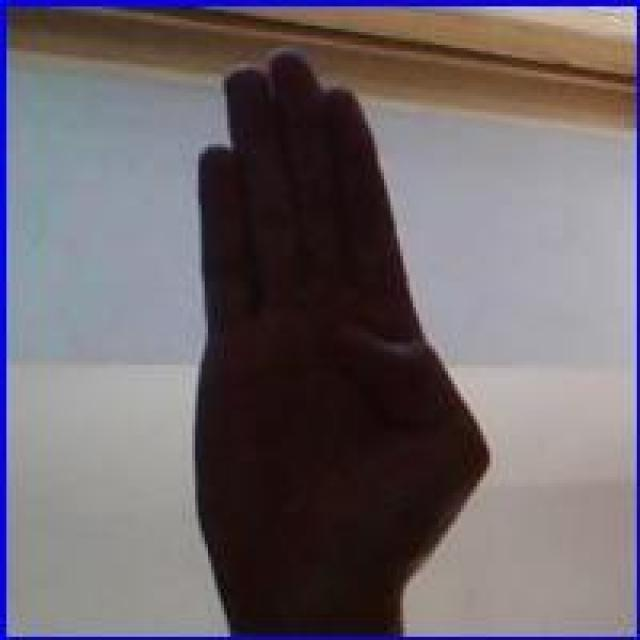B: (195, 48, 496, 614)
